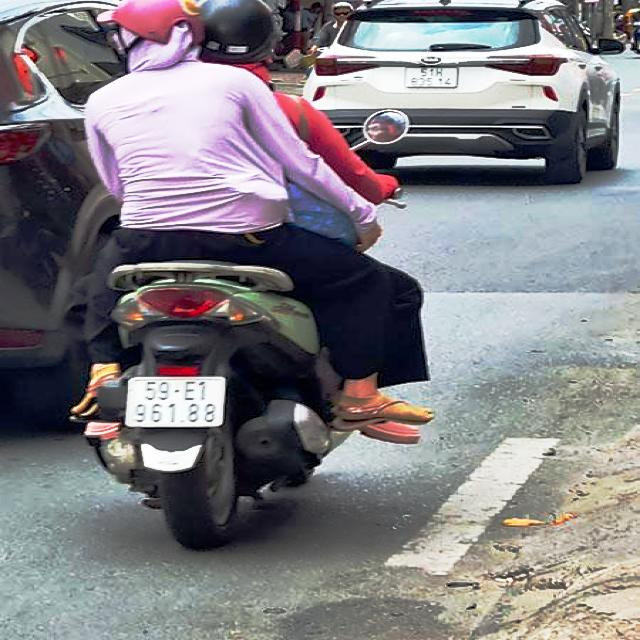license_plate: (124, 376, 222, 425), (405, 69, 461, 89)
